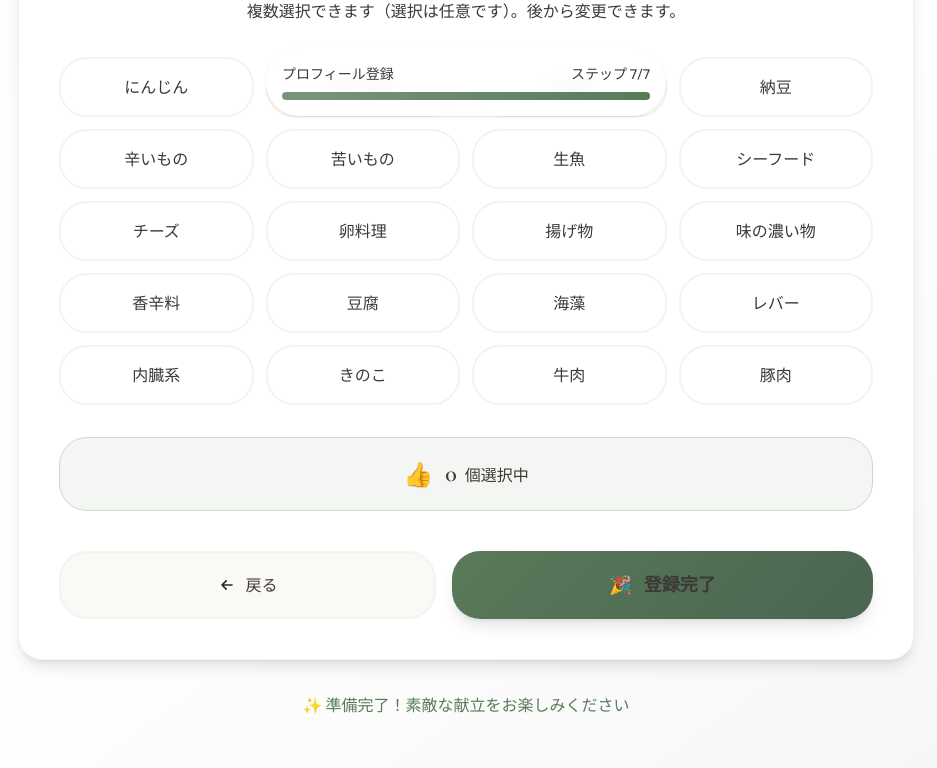
ProfileStep3Part2 › API エラー時にエラーメッセージが表示される
(page scrolled)
Click the text "登録完了" at x=680, y=585, box [644,571,716,599]
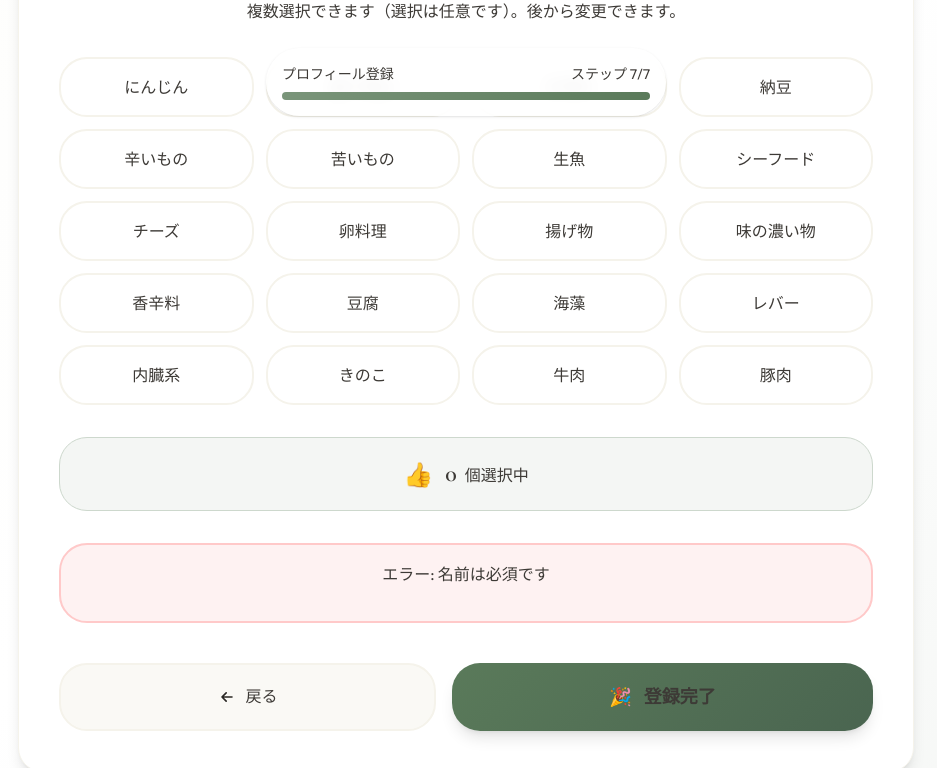
Expected: the text "エラー: 名前は必須です" is shown, [382,564,550,584]
